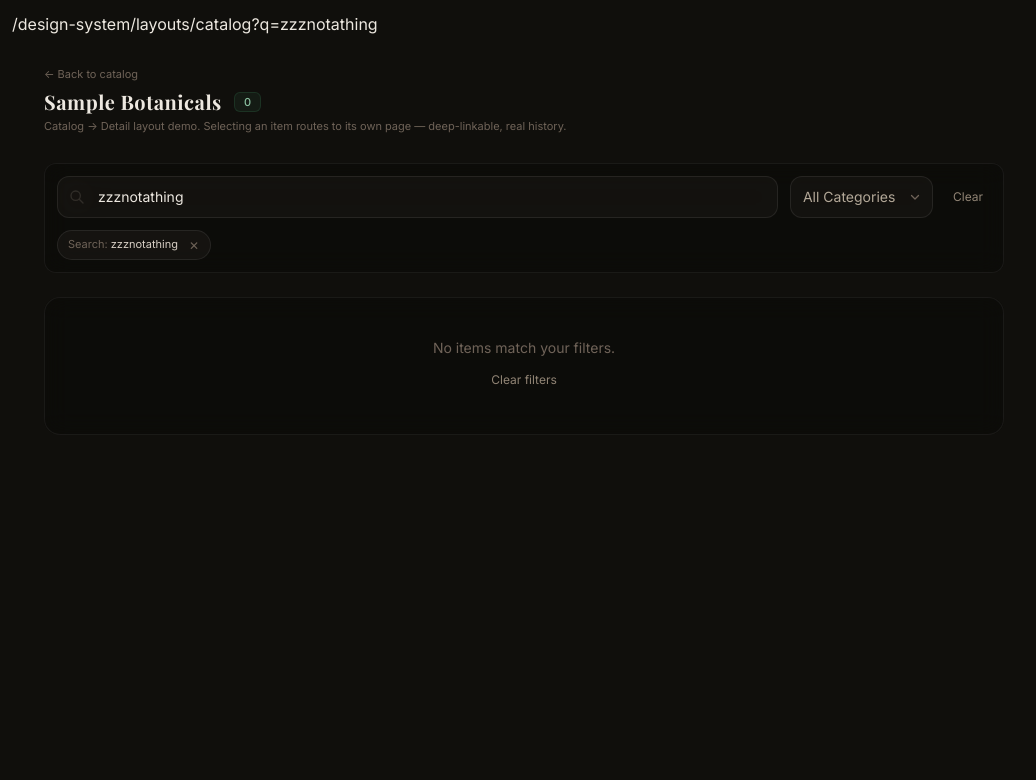
Scenario: CatalogDemo — composes the canonical Catalog layout with FilterBar › the empty state offers a way back to results
Step 1. Click the button "Clear filters" → {"x": 524, "y": 380}, box x1=483 y1=366 x2=565 y2=394
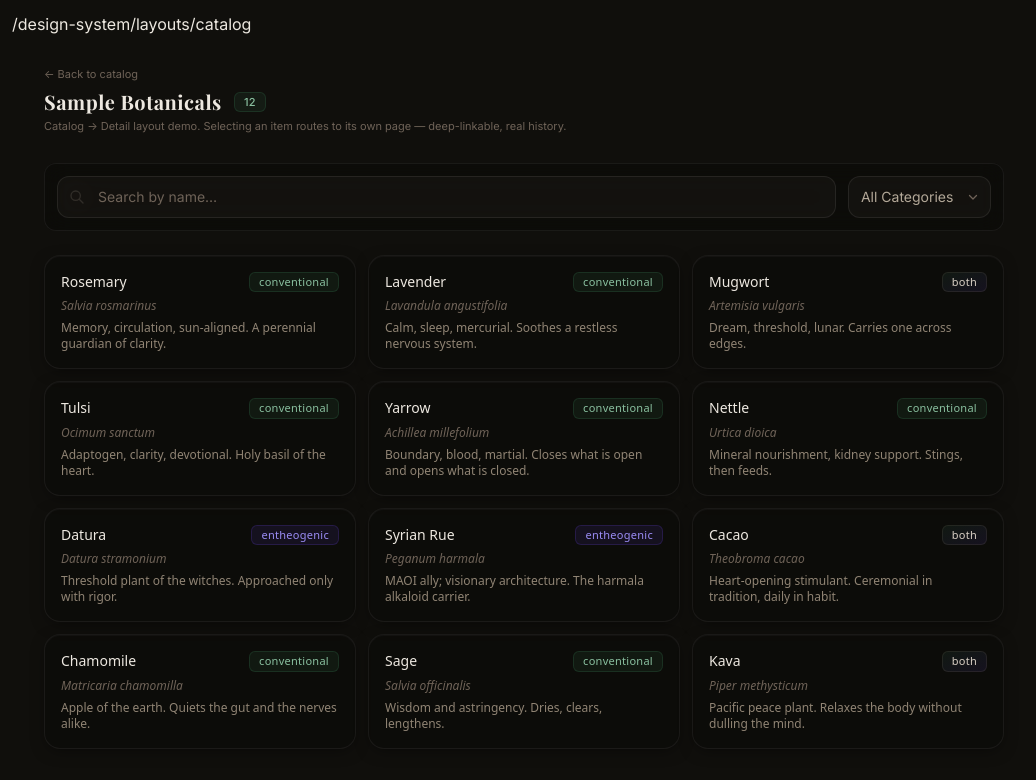
Now the text "Rosemary" is shown, box x1=61 y1=272 x2=127 y2=292
Now the text with test id "location-probe" no longer shows "q="
